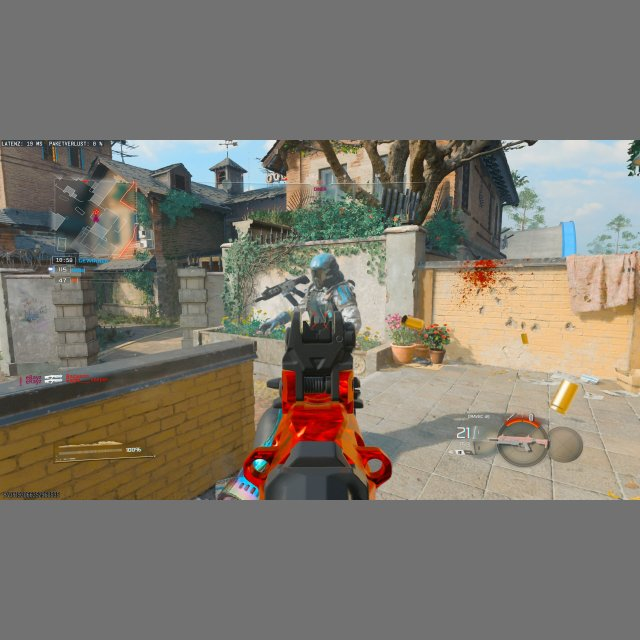head: (310, 252, 342, 287)
player: (255, 252, 368, 413)
